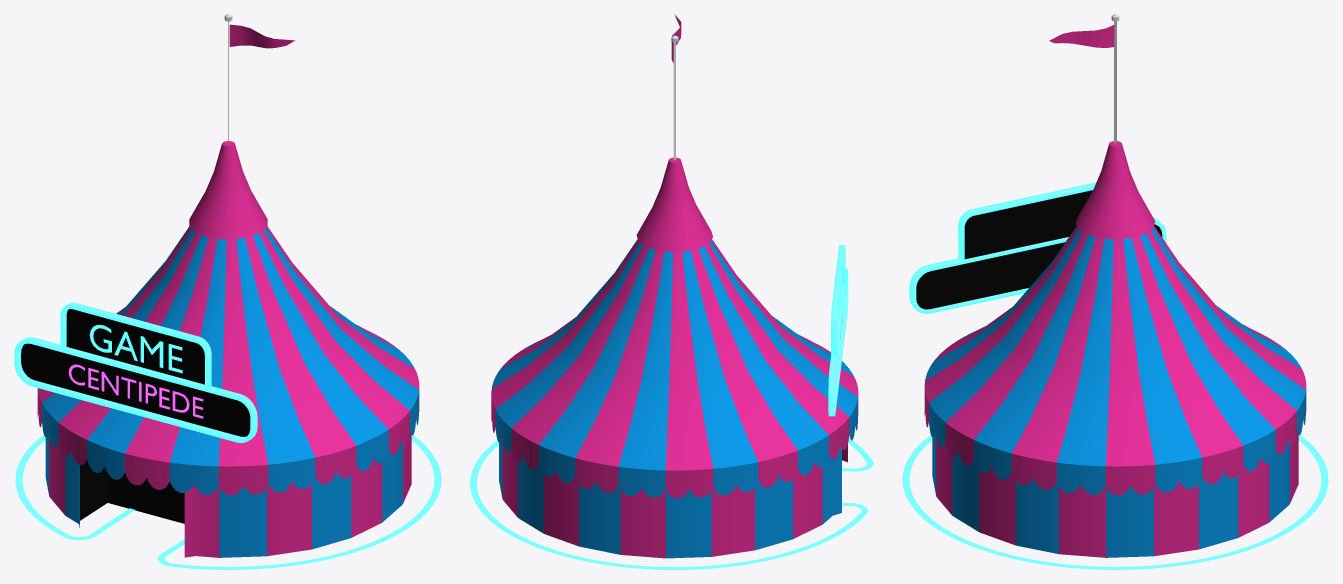
The model's file is tentGame1.glb.
3 views of the same model, side by side, from view 1: azimuth 30°, elevation 25°; view 2: azimuth 150°, elevation 25°; view 3: azimuth 270°, elevation 25° (orthographic). The views are drawn at different scales.
Visible parts, largest first — view 1: tentGame1, Plane.012, Plane.013, Plane.010, Plane.011, Text.011, Text.010; view 2: tentGame1, Plane.010, Plane.011; view 3: tentGame1, Plane.012, Plane.013, Plane.010, Plane.011.
Part boxes in pixels (box(x1,y1,x2,y2)): tentGame1: box(15, 14, 441, 569); Plane.012: box(21, 343, 250, 436); Plane.013: box(66, 309, 204, 384); Plane.010: box(14, 337, 257, 443); Plane.011: box(60, 302, 211, 388); Text.011: box(68, 364, 203, 418); Text.010: box(89, 325, 182, 373); tentGame1: box(470, 14, 873, 569); Plane.010: box(828, 268, 848, 416); Plane.011: box(831, 245, 845, 355); tentGame1: box(902, 14, 1328, 569); Plane.012: box(916, 224, 1162, 309); Plane.013: box(964, 190, 1092, 259); Plane.010: box(909, 218, 1166, 313); Plane.011: box(958, 182, 1096, 260).
Bounding box in the file's own units: 13.46 × 16.01 × 13.26.
